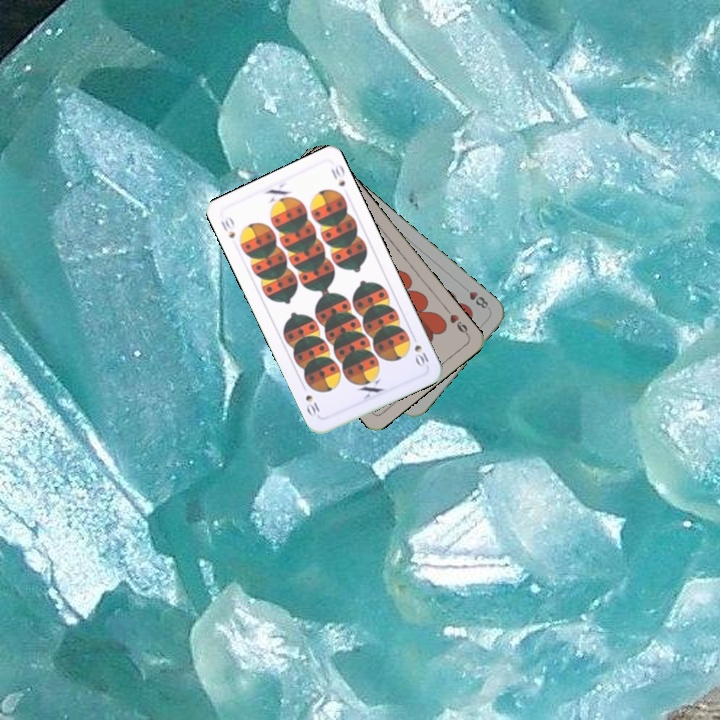H8: (458, 282, 491, 311)
H9: (442, 304, 471, 338)
S10: (404, 330, 432, 370), (217, 212, 238, 241)
